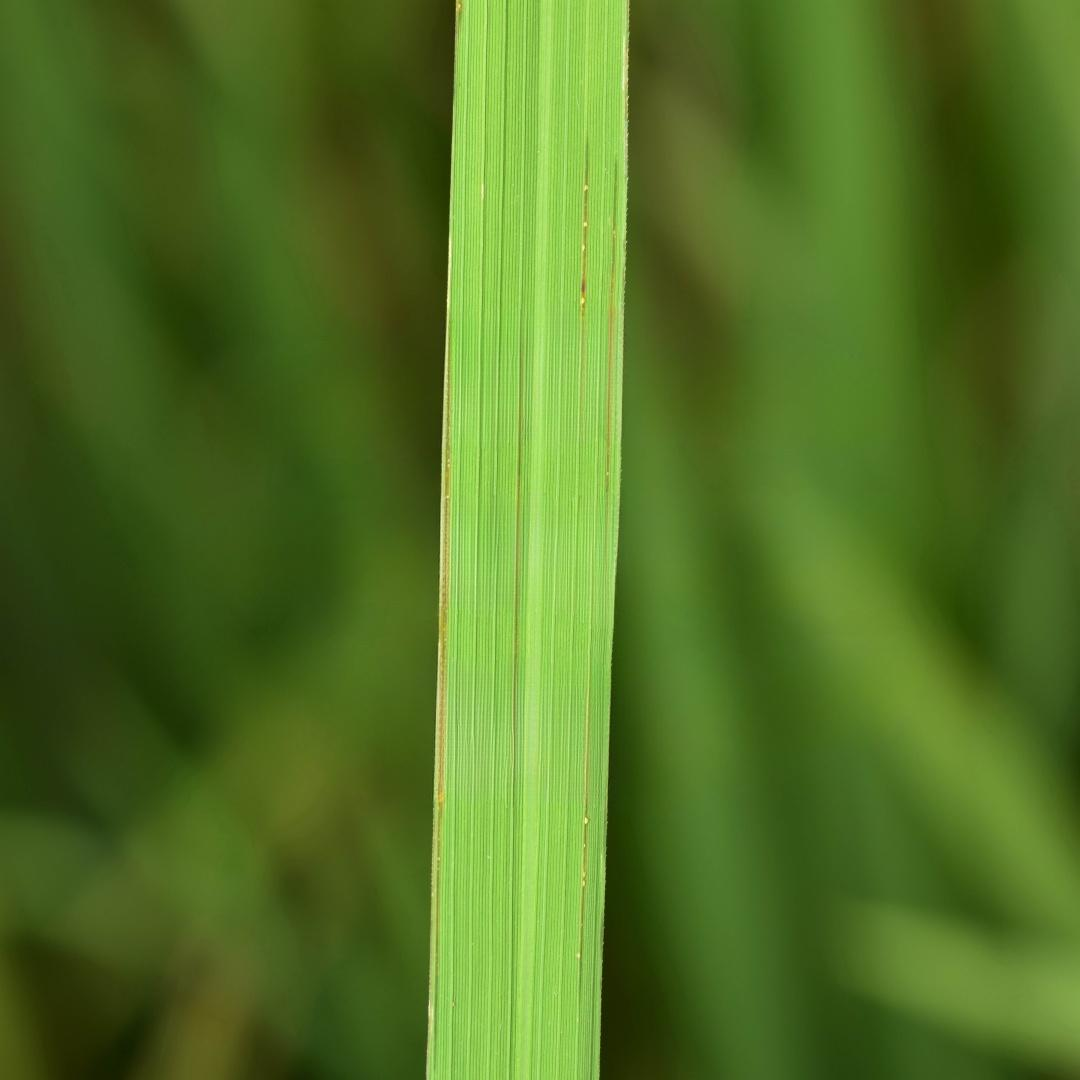BLS: (436, 169, 452, 1005), (606, 159, 617, 492), (579, 675, 590, 1004), (577, 132, 589, 429)
LEAF: (426, 0, 627, 1079)
